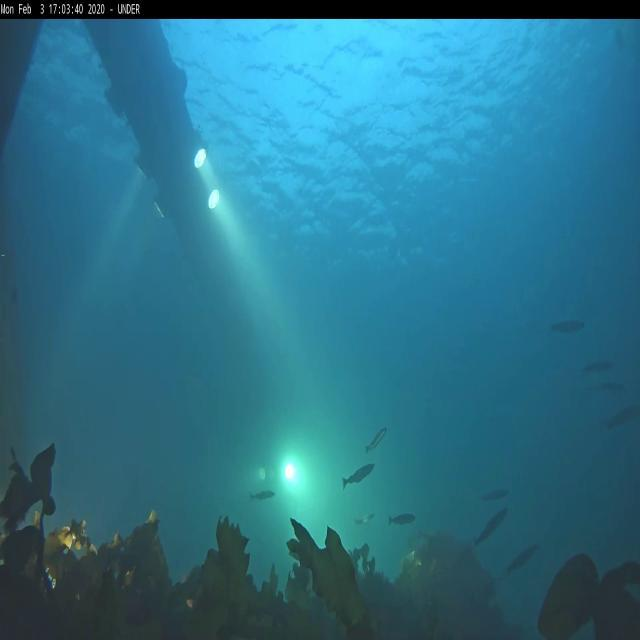fish: (474, 509, 507, 544), (509, 544, 539, 576), (606, 404, 640, 432), (340, 465, 375, 491), (583, 358, 616, 376), (364, 426, 388, 449), (596, 380, 628, 396), (550, 320, 586, 334), (388, 511, 418, 527), (481, 488, 511, 502), (251, 490, 276, 502), (354, 513, 374, 527)
